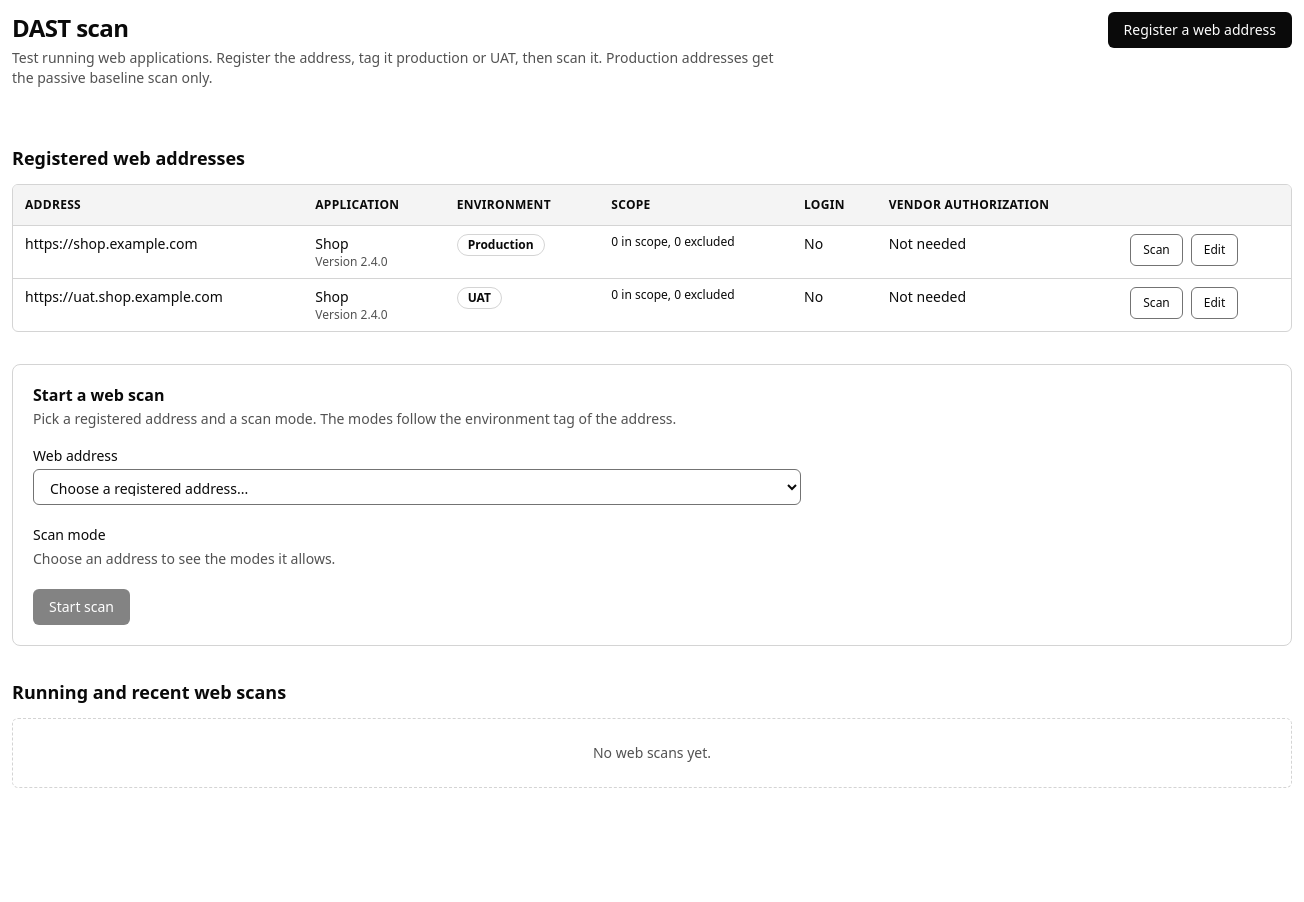
DastPage scan form › shows the refusal of the API as it was written
Select "Shop - https://uat.shop.example.com (UAT)" in the dropdown labelled "Web address". click: point(417, 486)
box: [33, 468, 801, 504]
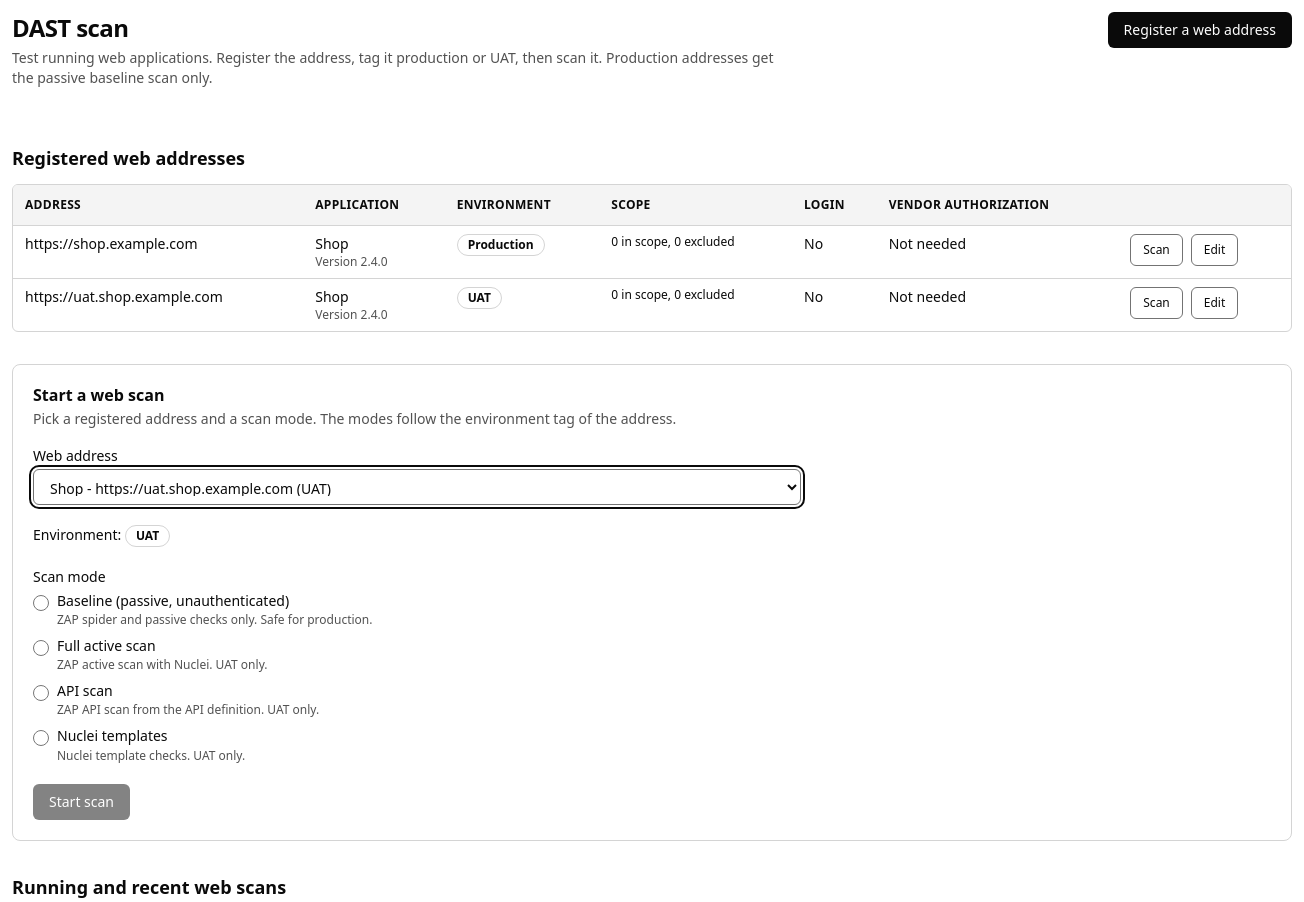
Click the radio button labelled "Full active scan". click: point(41, 648)
box: [33, 640, 49, 656]
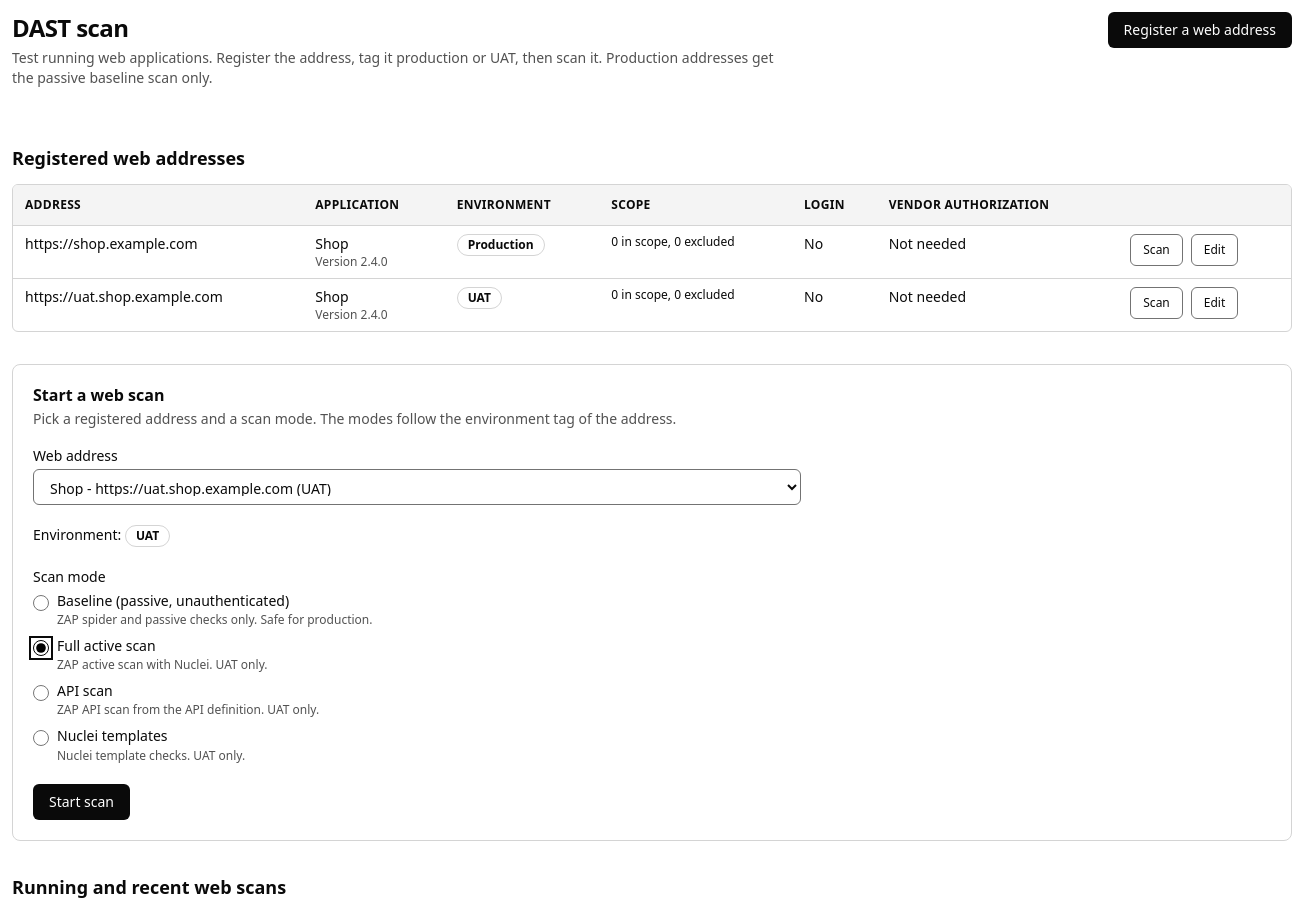
Click the button "Start scan". click: point(82, 802)
box: [33, 784, 130, 820]
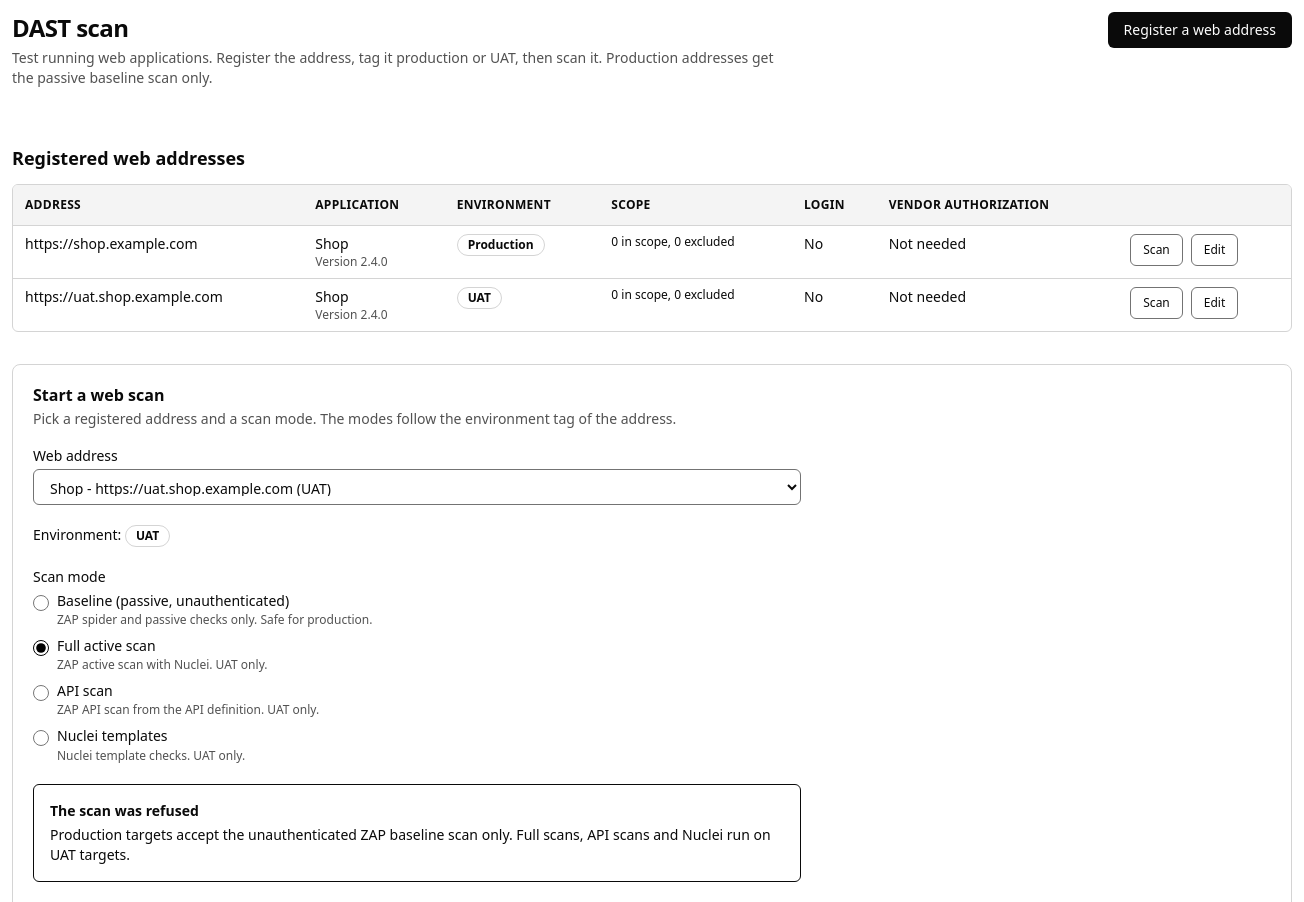
Expected: the text with test id "problem-detail" shows "Production targets accept the unauthenticated ZAP baseline scan only. Full scans, API scans and Nuclei run on UAT targets.", [50, 824, 771, 864]
